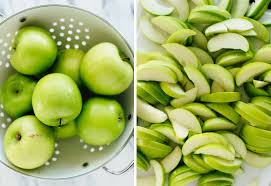apple: (30, 73, 80, 123), (8, 118, 55, 171), (82, 47, 134, 93), (76, 99, 128, 143), (7, 31, 57, 73), (4, 78, 39, 116), (59, 48, 83, 79)
